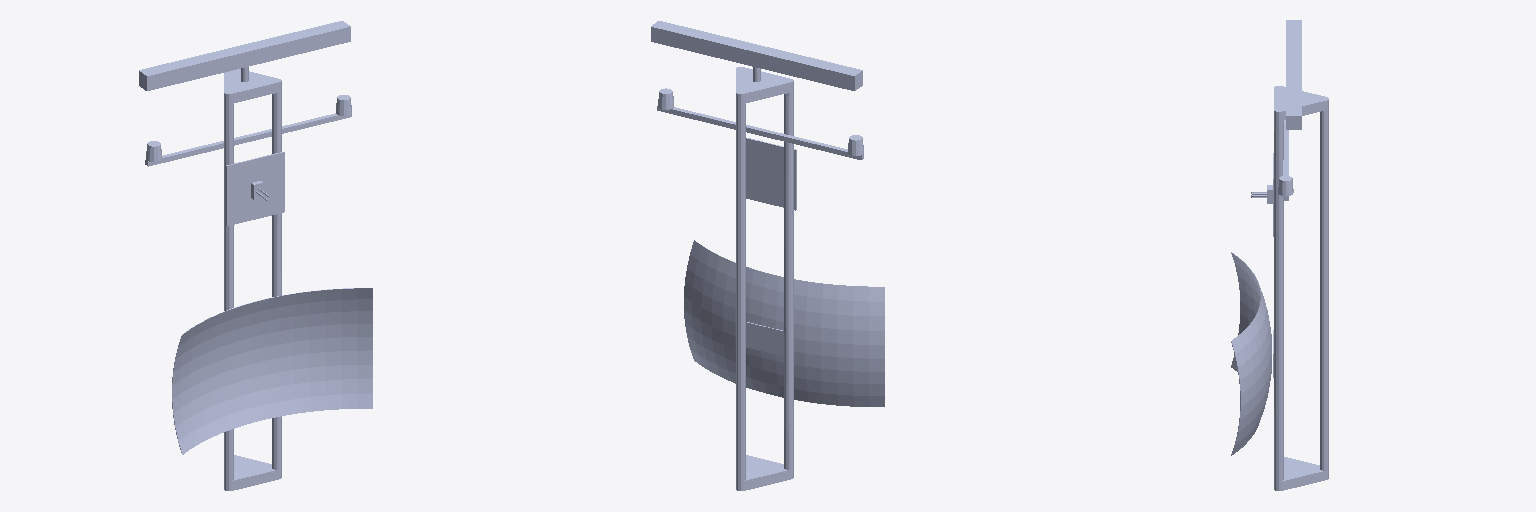
URDF robot description (mast_urdf):
<?xml version="1.0" encoding="utf-8"?>
<!-- This URDF was automatically created by SolidWorks to URDF Exporter! Originally created by [author] ([email redacted]) 
     Commit Version: 1.6.0-4-g7f85cfe  Build Version: 1.6.7995.38578
     For more information, please see http://wiki.ros.org/sw_urdf_exporter -->
<robot
  name="mast_urdf">
  <link
    name="base_link">
    <inertial>
      <origin
        xyz="0.64916 -2.1253 1.9287"
        rpy="0 0 0" />
      <mass
        value="24.525" />
      <inertia
        ixx="13.322"
        ixy="1.9287E-15"
        ixz="6.1623E-16"
        iyy="14.301"
        iyz="0.028078"
        izz="1.2555" />
    </inertial>
    <visual>
      <origin
        xyz="0 0 0"
        rpy="0 0 0" />
      <geometry>
        <mesh
          filename="package://mast_urdf/meshes/base_link.STL" />
      </geometry>
      <material
        name="">
        <color
          rgba="0.79216 0.81961 0.93333 1" />
      </material>
    </visual>
    <collision>
      <origin
        xyz="0 0 0"
        rpy="0 0 0" />
      <geometry>
        <mesh
          filename="package://mast_urdf/meshes/base_link.STL" />
      </geometry>
    </collision>
  </link>
</robot>

--- Render facts (derived) ---
Views: 3 orthographic renders of the robot side by side, from view 1: azimuth 30°, elevation 25°; view 2: azimuth 150°, elevation 25°; view 3: azimuth 270°, elevation 25°.
Robot: mast_urdf — 1 links, 0 joints (none); root link base_link; default pose: all joints at 0.
Links seen in each view (by area): view 1: base_link; view 2: base_link; view 3: base_link.
Link boxes in pixels (x1=…): base_link: x1=139, y1=21, x2=372, y2=490; base_link: x1=651, y1=21, x2=884, y2=490; base_link: x1=1231, y1=20, x2=1328, y2=490.
Size in the robot's own frame: 1.08 by 0.4706 by 2.17 metres.
Meshes: 1 distinct files referenced, 1 mesh visuals loaded (1 binary STL).